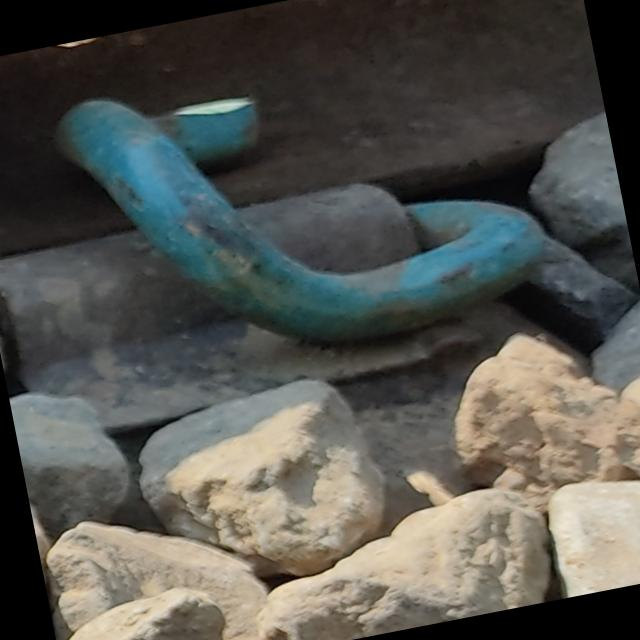track_bolt: (42, 11, 566, 400)
